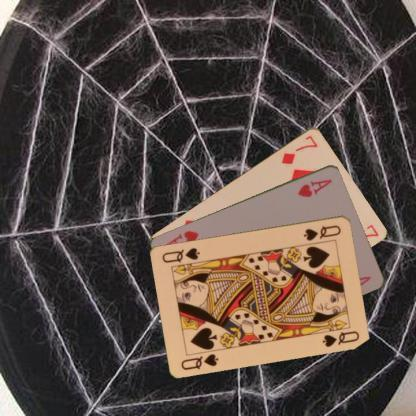7d: (278, 132, 318, 166)
Ah: (296, 176, 334, 198)
Qs: (301, 222, 343, 242), (178, 351, 220, 371)
